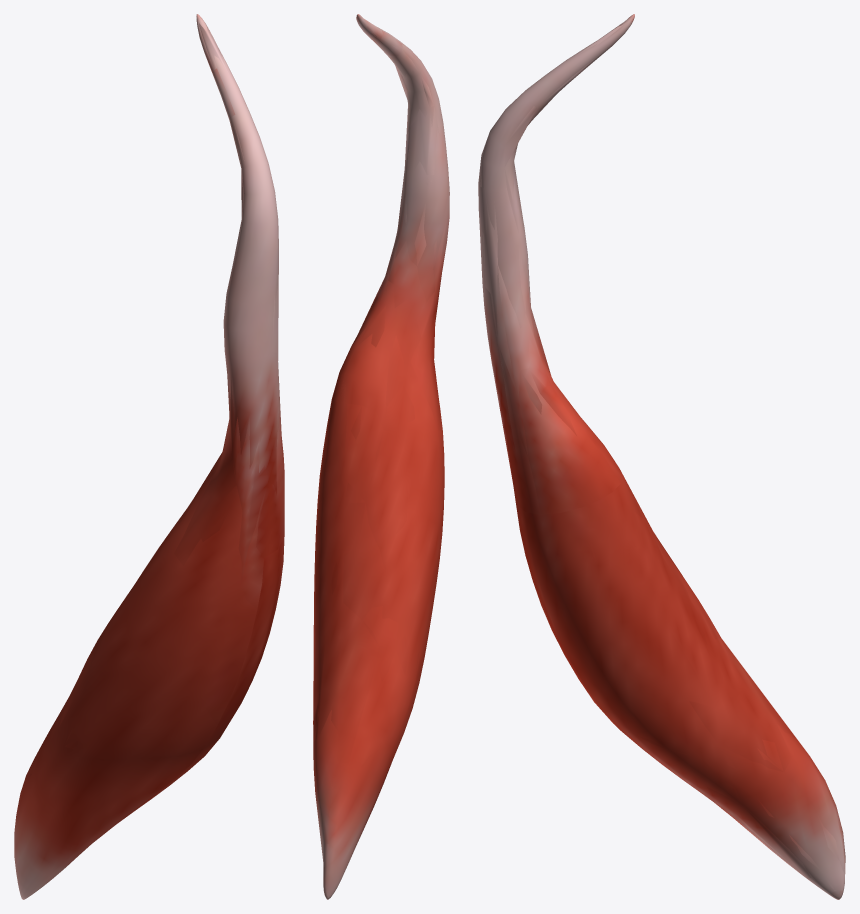
The model's file is L Biceps Brachii.fbx.
The picture shows the model from 3 angles, left to right: view 1: azimuth 30°, elevation 25°; view 2: azimuth 150°, elevation 25°; view 3: azimuth 270°, elevation 25°; orthographic projection. The views are drawn at different scales.
Visible parts, largest first — view 1: L Biceps Brachii, L Biceps Brachii low; view 2: L Biceps Brachii, L Biceps Brachii low; view 3: L Biceps Brachii, L Biceps Brachii low.
Part boxes in pixels (x1,y1,x2,y2): L Biceps Brachii: [14, 14, 284, 899]; L Biceps Brachii low: [26, 18, 284, 886]; L Biceps Brachii: [313, 14, 449, 899]; L Biceps Brachii low: [313, 16, 448, 874]; L Biceps Brachii: [478, 14, 845, 899]; L Biceps Brachii low: [480, 23, 844, 893].
Size of the model in its own units: 7.46 by 43.14 by 15.63.
